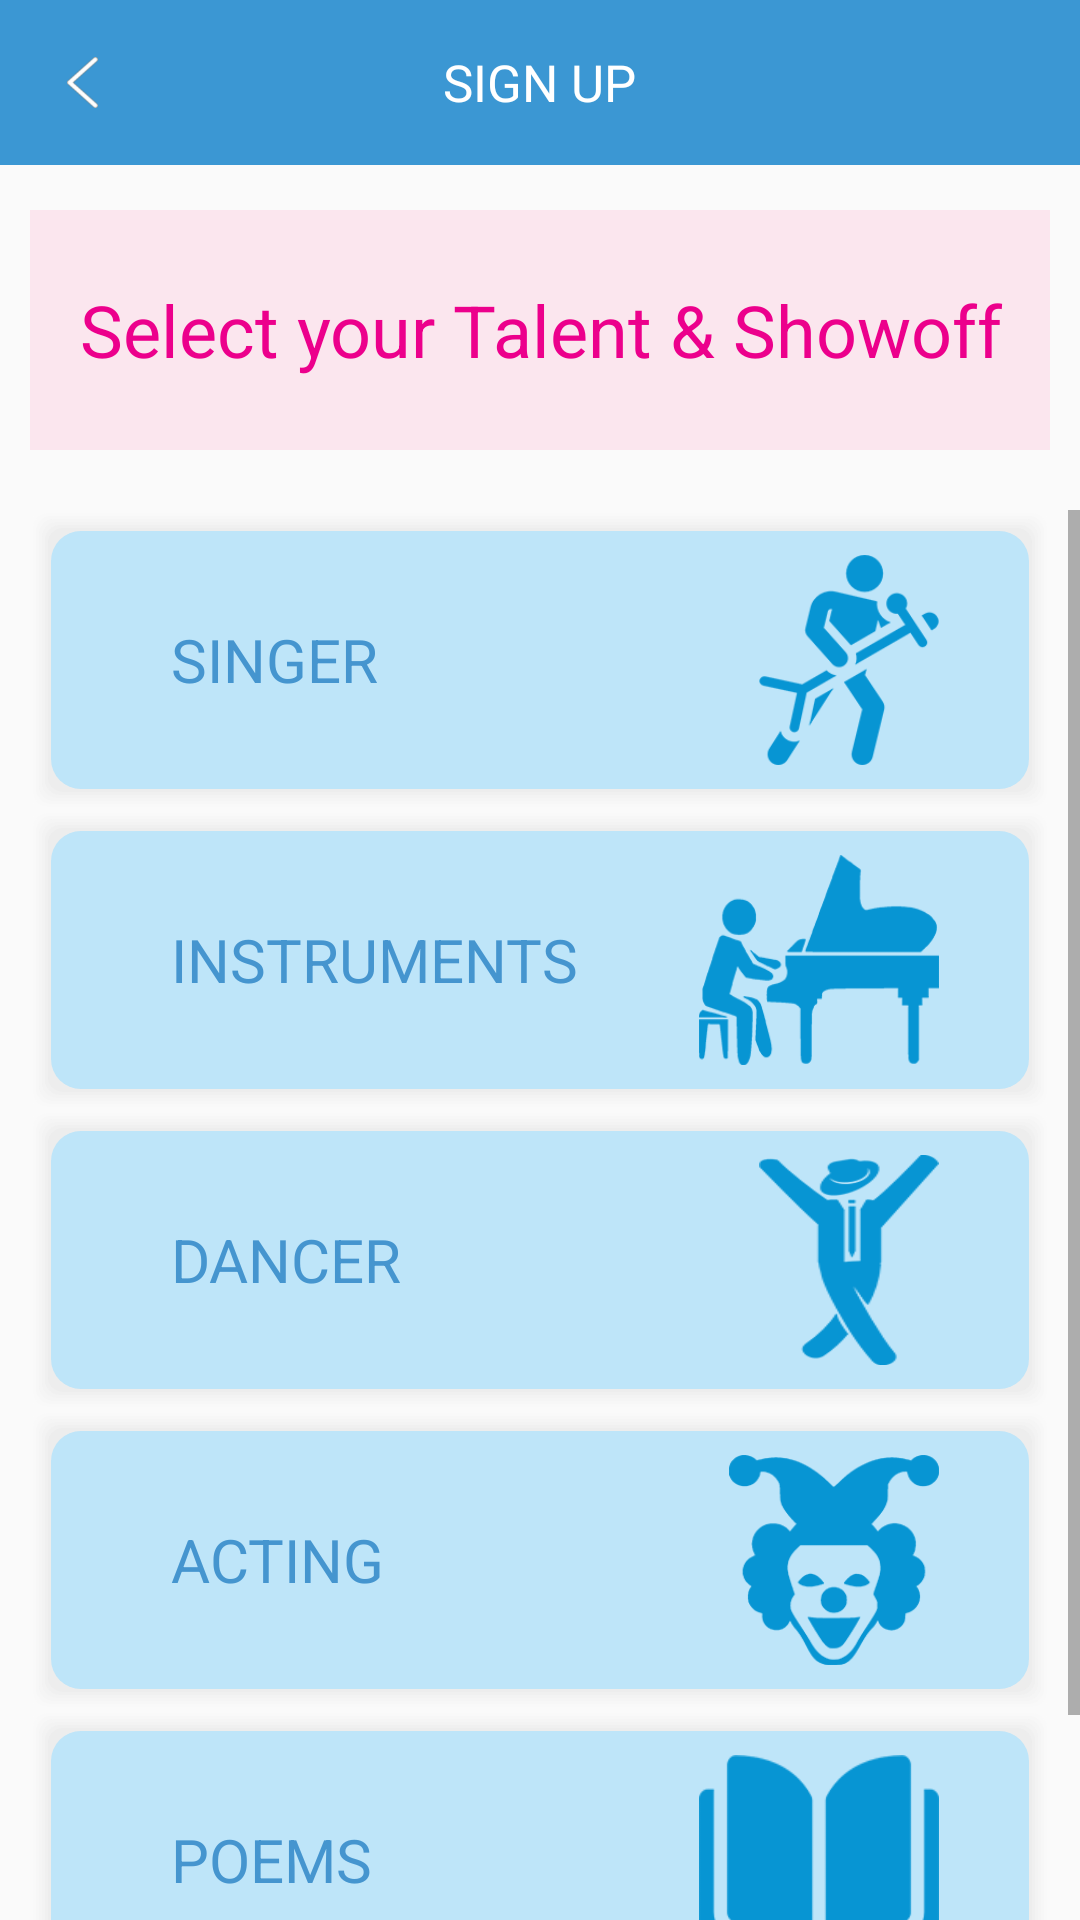

Named icons in this screenshot (1080*1920) and their centers, point (x, y):
acting: point (834, 1560)
arrow: point (82, 82)
dancer: point (849, 1260)
singer: point (849, 660)
